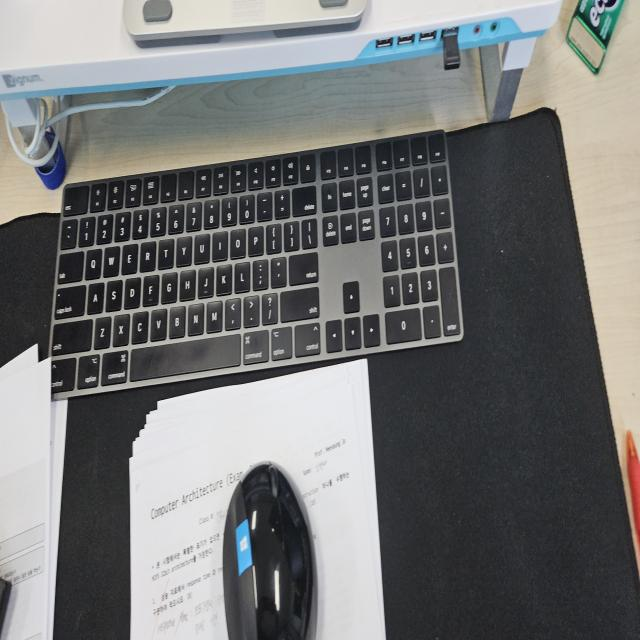Keyboard: (47, 128, 465, 400)
Mouse: (220, 457, 316, 637)
